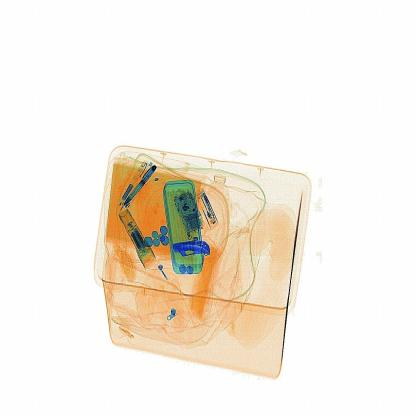knife: (168, 228, 219, 263)
